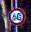Speed Limit -60-: (8, 8, 24, 24)
